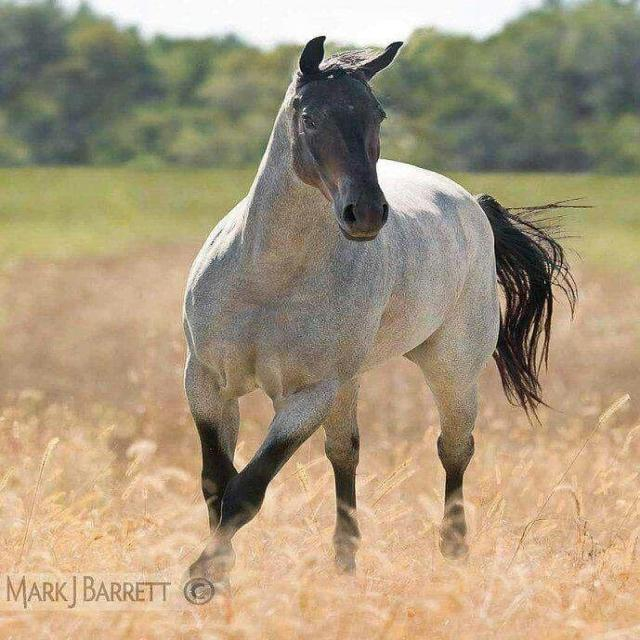horse: (178, 34, 593, 605)
